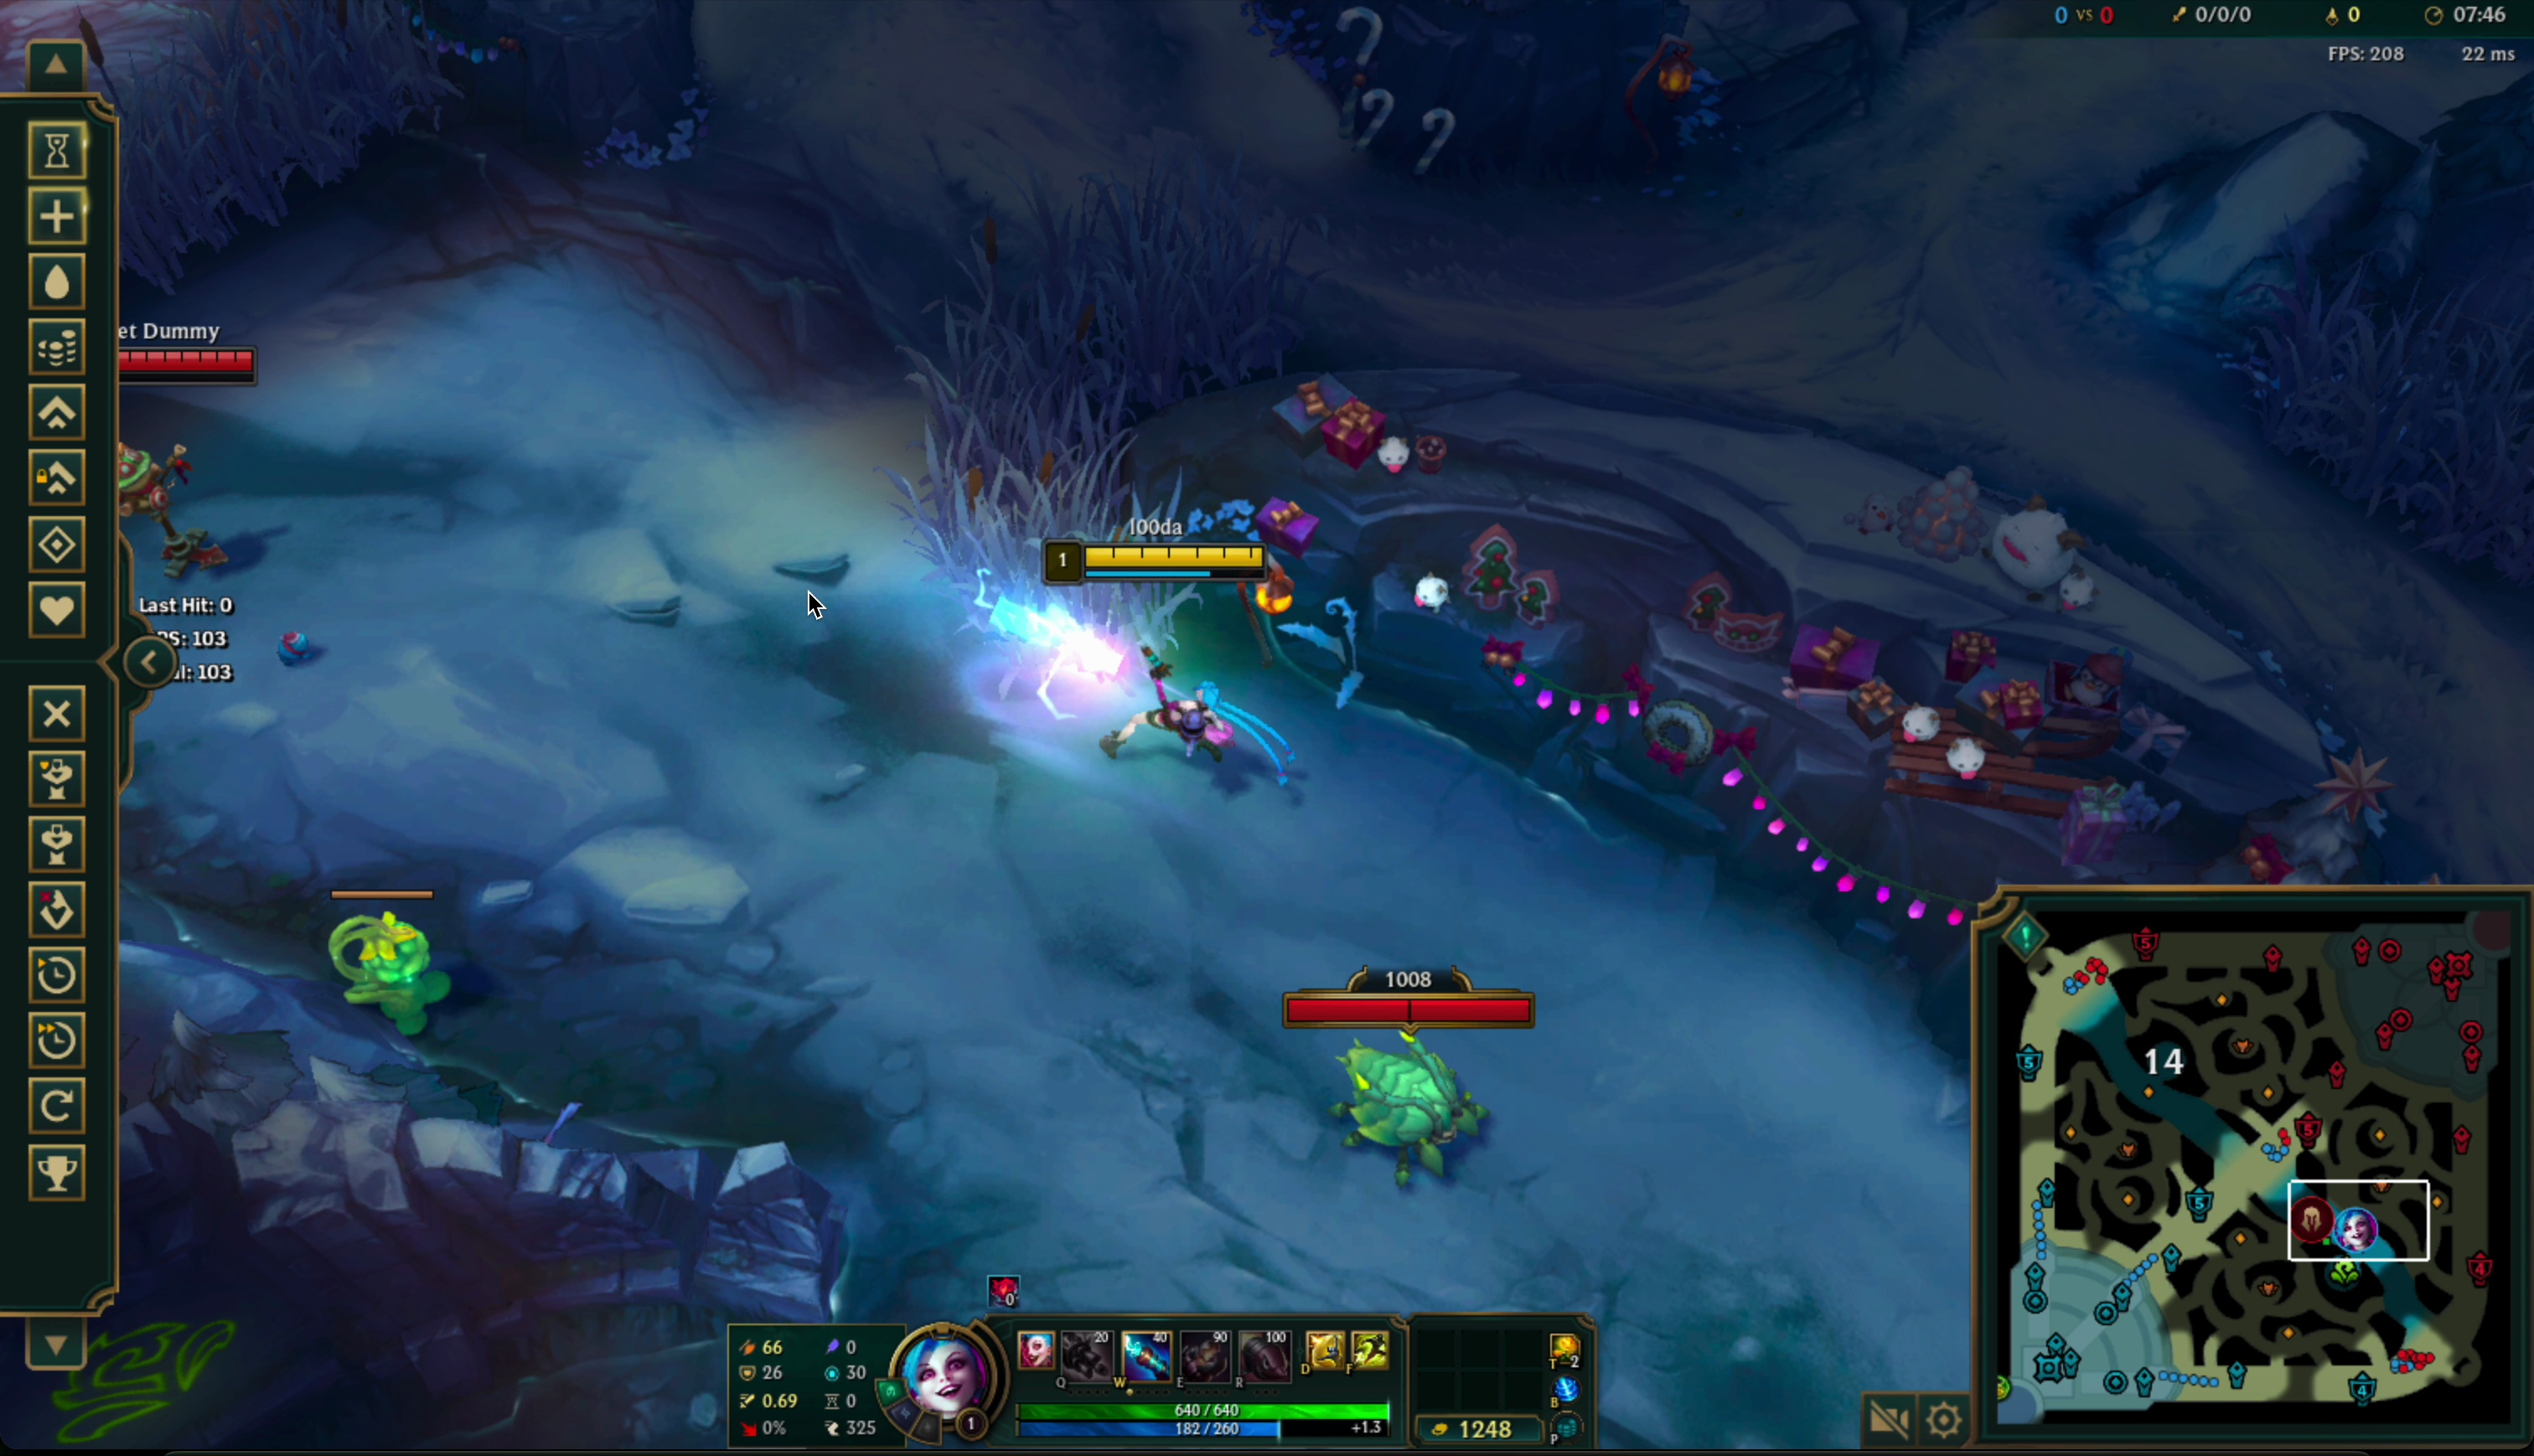JINX_W_PROJECTILE: (856, 515, 1319, 776)
